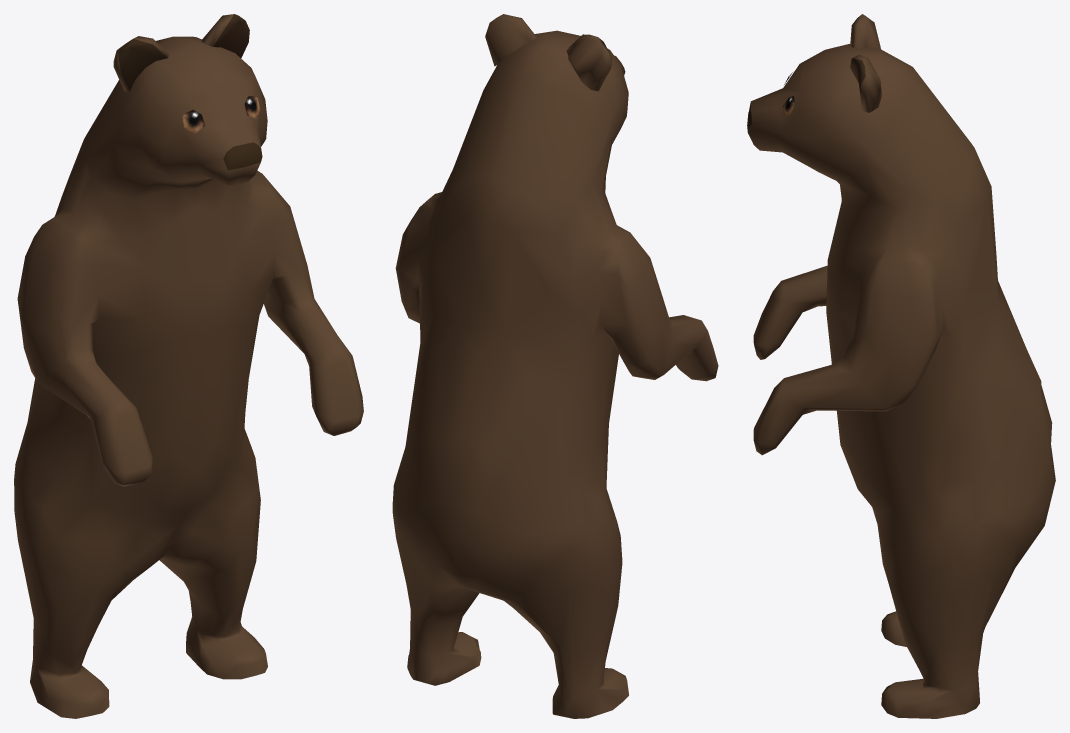
3 renders of one model, left to right at view 1: azimuth 30°, elevation 25°; view 2: azimuth 150°, elevation 25°; view 3: azimuth 270°, elevation 25°, orthographic. The views are drawn at different scales.
Visible parts, largest first — view 1: Bear02; view 2: Bear02; view 3: Bear02.
Boxes of the visible parts, bbox=[...] form: Bear02: bbox=[14, 14, 363, 718]; Bear02: bbox=[392, 14, 718, 718]; Bear02: bbox=[747, 14, 1055, 718].
Size of what is drawn, in the model's own units: 0.9601 by 2.31 by 1.02.
1 material, 1 textured.
